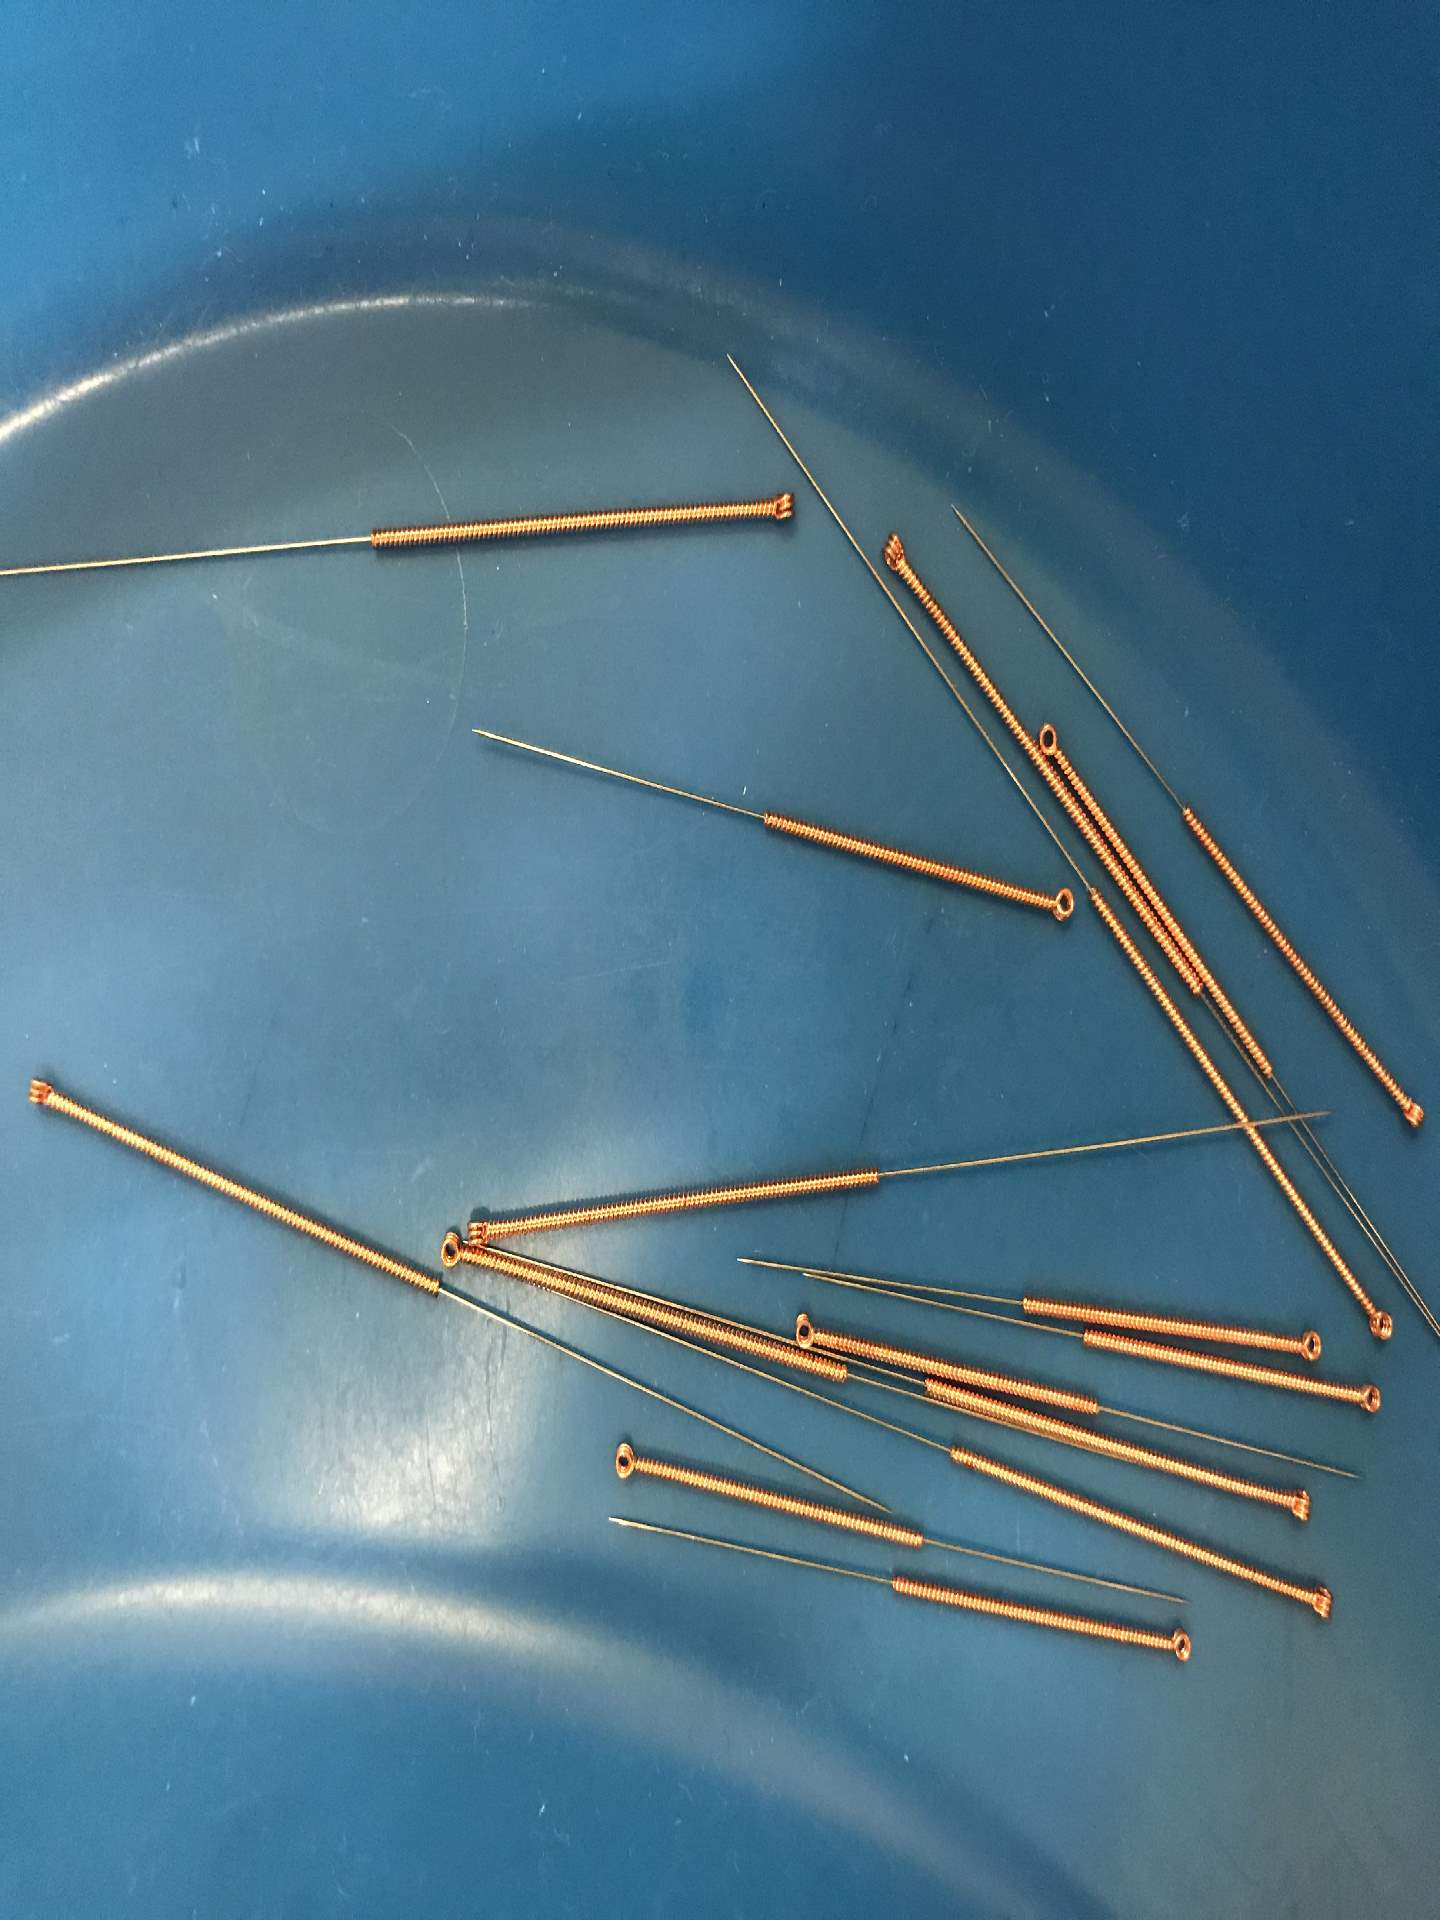needle: (1144, 1613, 1212, 1678), (749, 481, 818, 537), (868, 517, 923, 588), (1381, 1076, 1435, 1144), (1289, 1572, 1349, 1630), (1355, 1287, 1405, 1355), (1029, 875, 1083, 937), (17, 1067, 79, 1120), (1283, 1315, 1336, 1371), (602, 1432, 653, 1489), (1343, 1370, 1395, 1426), (1271, 1476, 1324, 1528), (781, 1309, 833, 1356), (1038, 709, 1074, 774), (430, 1223, 467, 1281), (460, 1208, 504, 1252)
